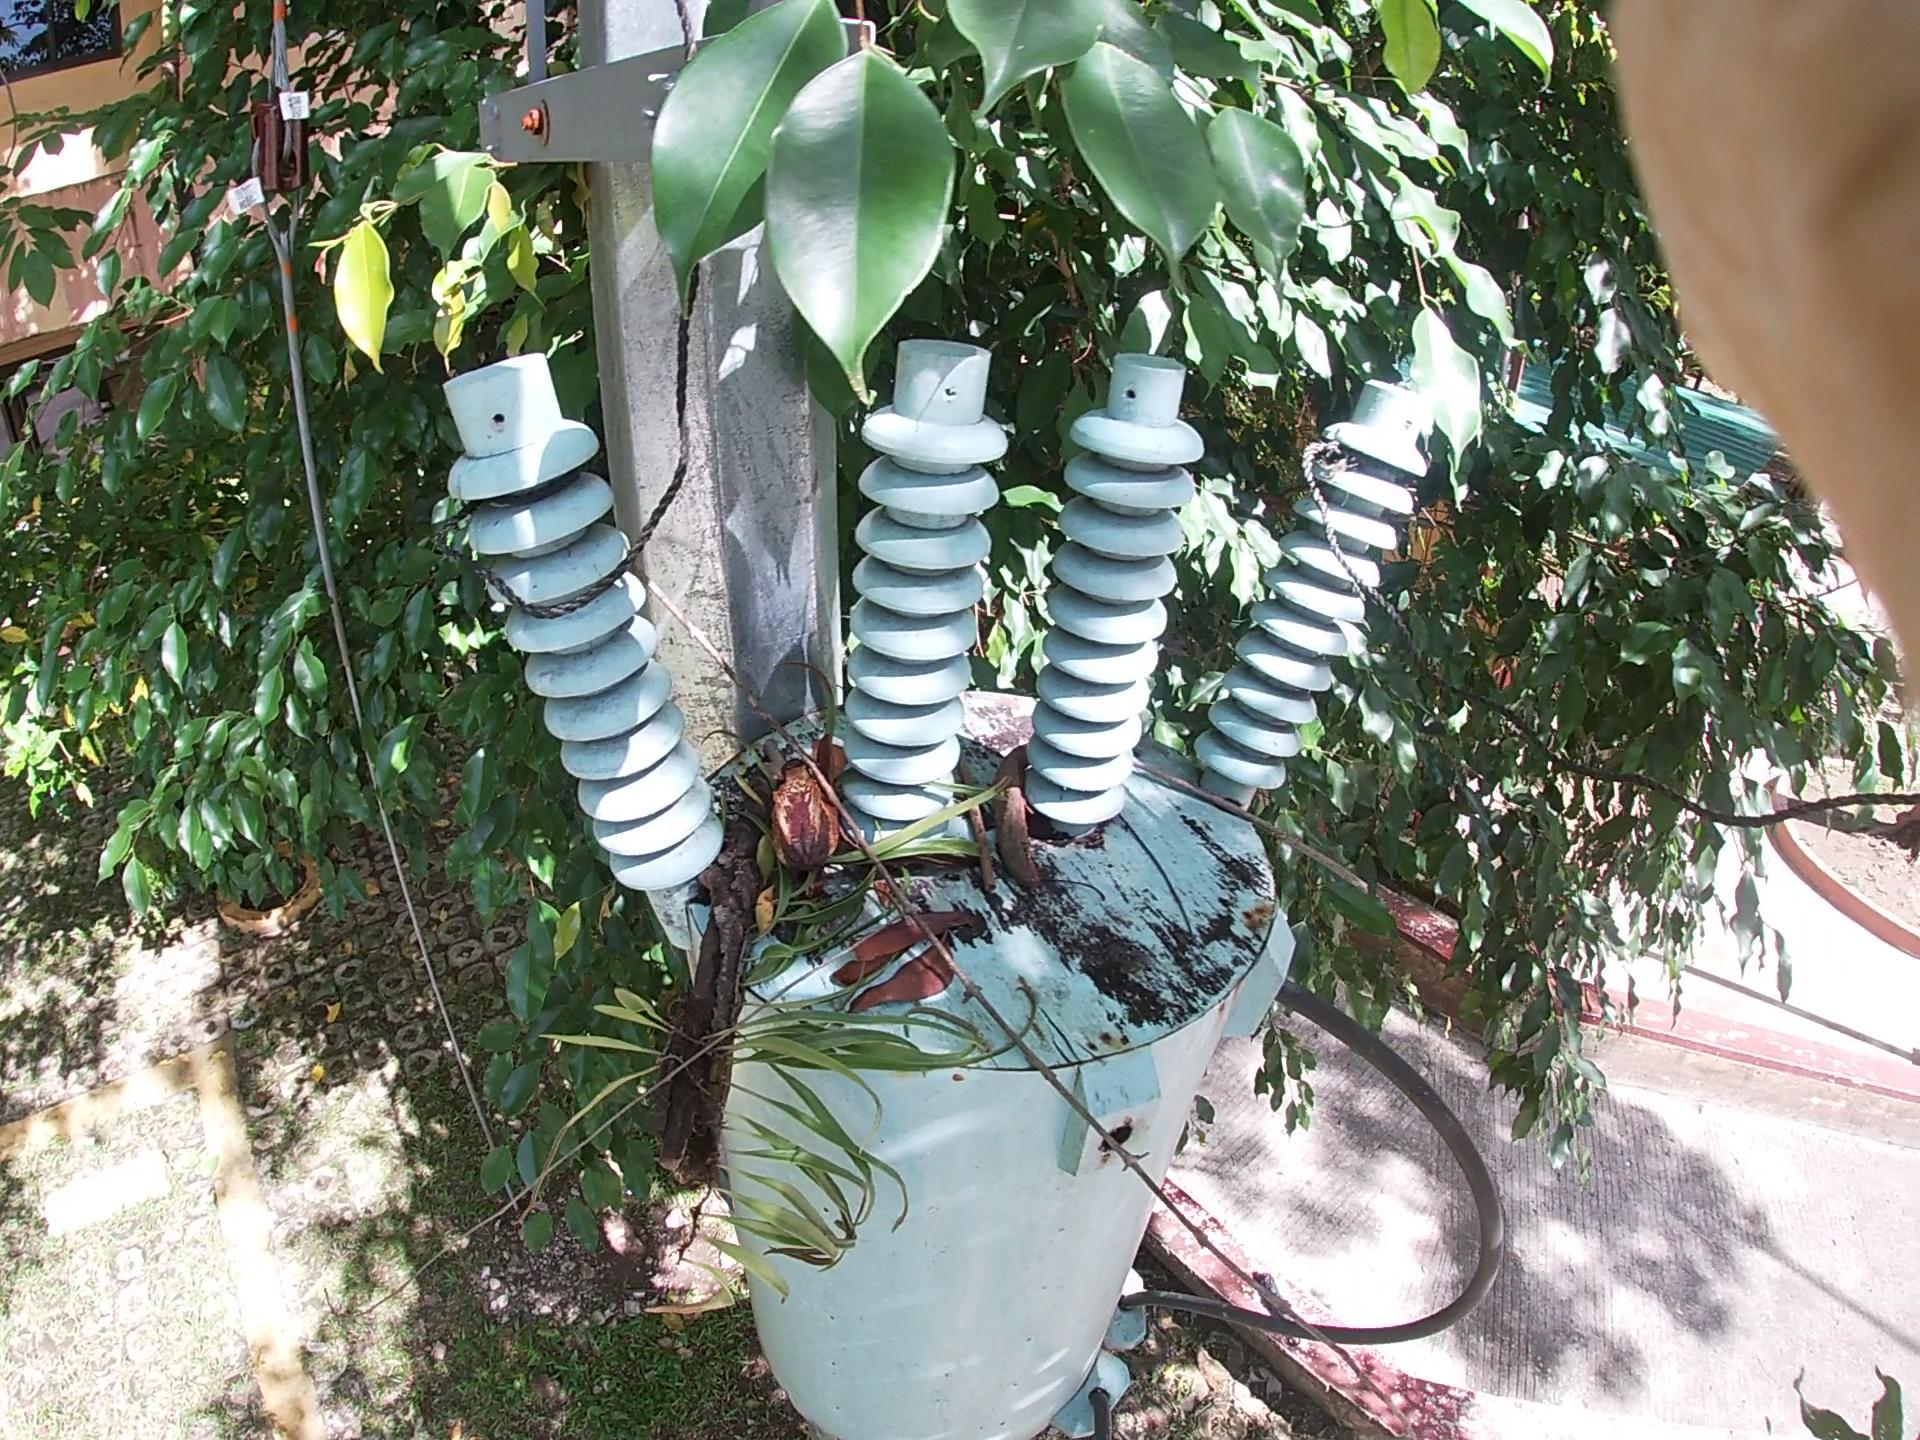branch with leaves: (708, 602, 893, 1125)
leaf: (816, 914, 1025, 1057)
mahogany fruit: (958, 659, 1108, 917), (739, 702, 853, 892)
tree branch: (770, 756, 1302, 1351), (1166, 768, 1525, 982), (937, 735, 1098, 962)
